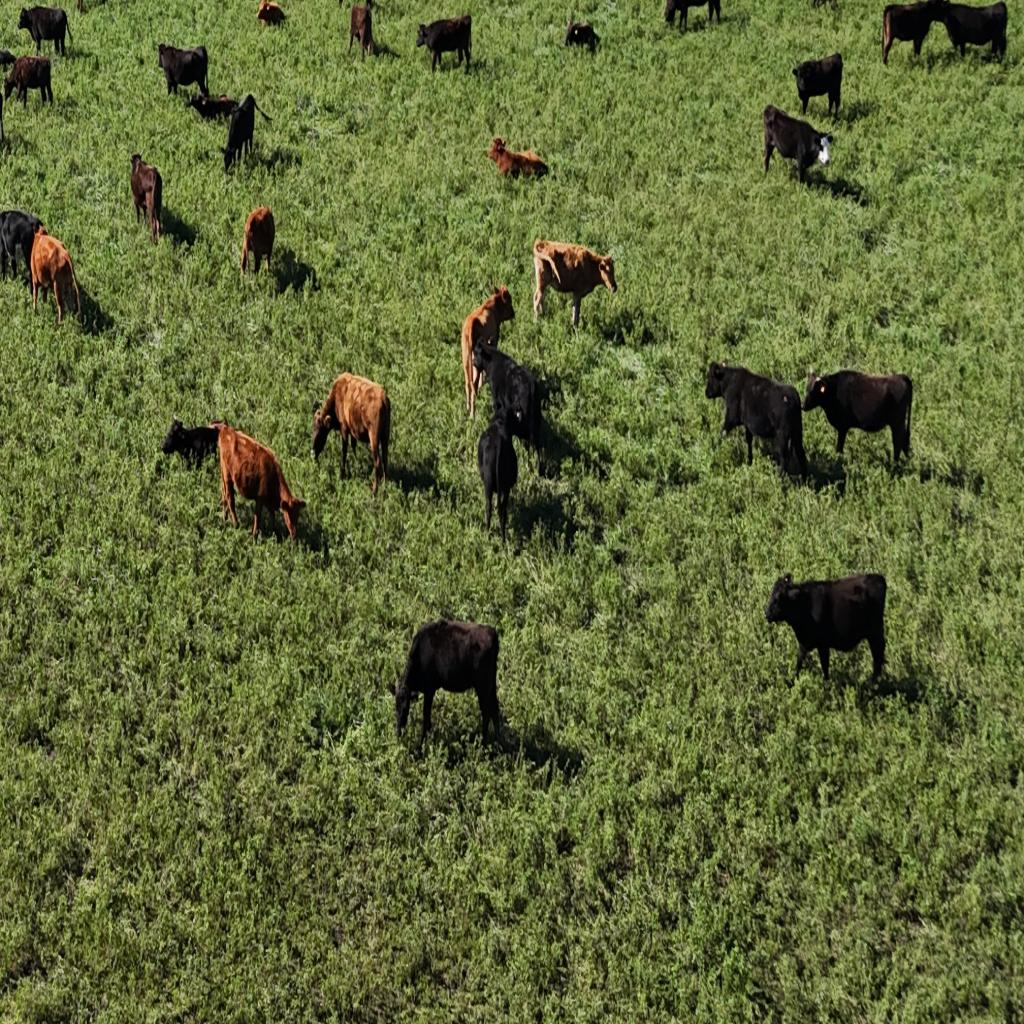cow: (390, 619, 502, 757), (765, 570, 889, 686), (707, 362, 808, 482), (800, 366, 914, 466), (216, 422, 308, 544), (472, 339, 546, 478), (310, 374, 390, 498), (532, 234, 618, 328), (461, 286, 517, 418), (476, 402, 520, 546), (762, 104, 833, 188), (30, 226, 82, 327), (941, 1, 1008, 63), (882, 0, 940, 64), (160, 417, 222, 473), (0, 209, 44, 286), (792, 52, 843, 118), (416, 14, 472, 72), (129, 154, 162, 248), (157, 42, 207, 99), (18, 5, 70, 59), (4, 54, 53, 110), (240, 206, 276, 282), (222, 94, 256, 174), (488, 137, 548, 181), (664, 0, 717, 32), (348, 2, 376, 61), (189, 92, 238, 121), (564, 22, 598, 54), (257, 0, 286, 29), (0, 49, 17, 70), (812, 0, 840, 12)
